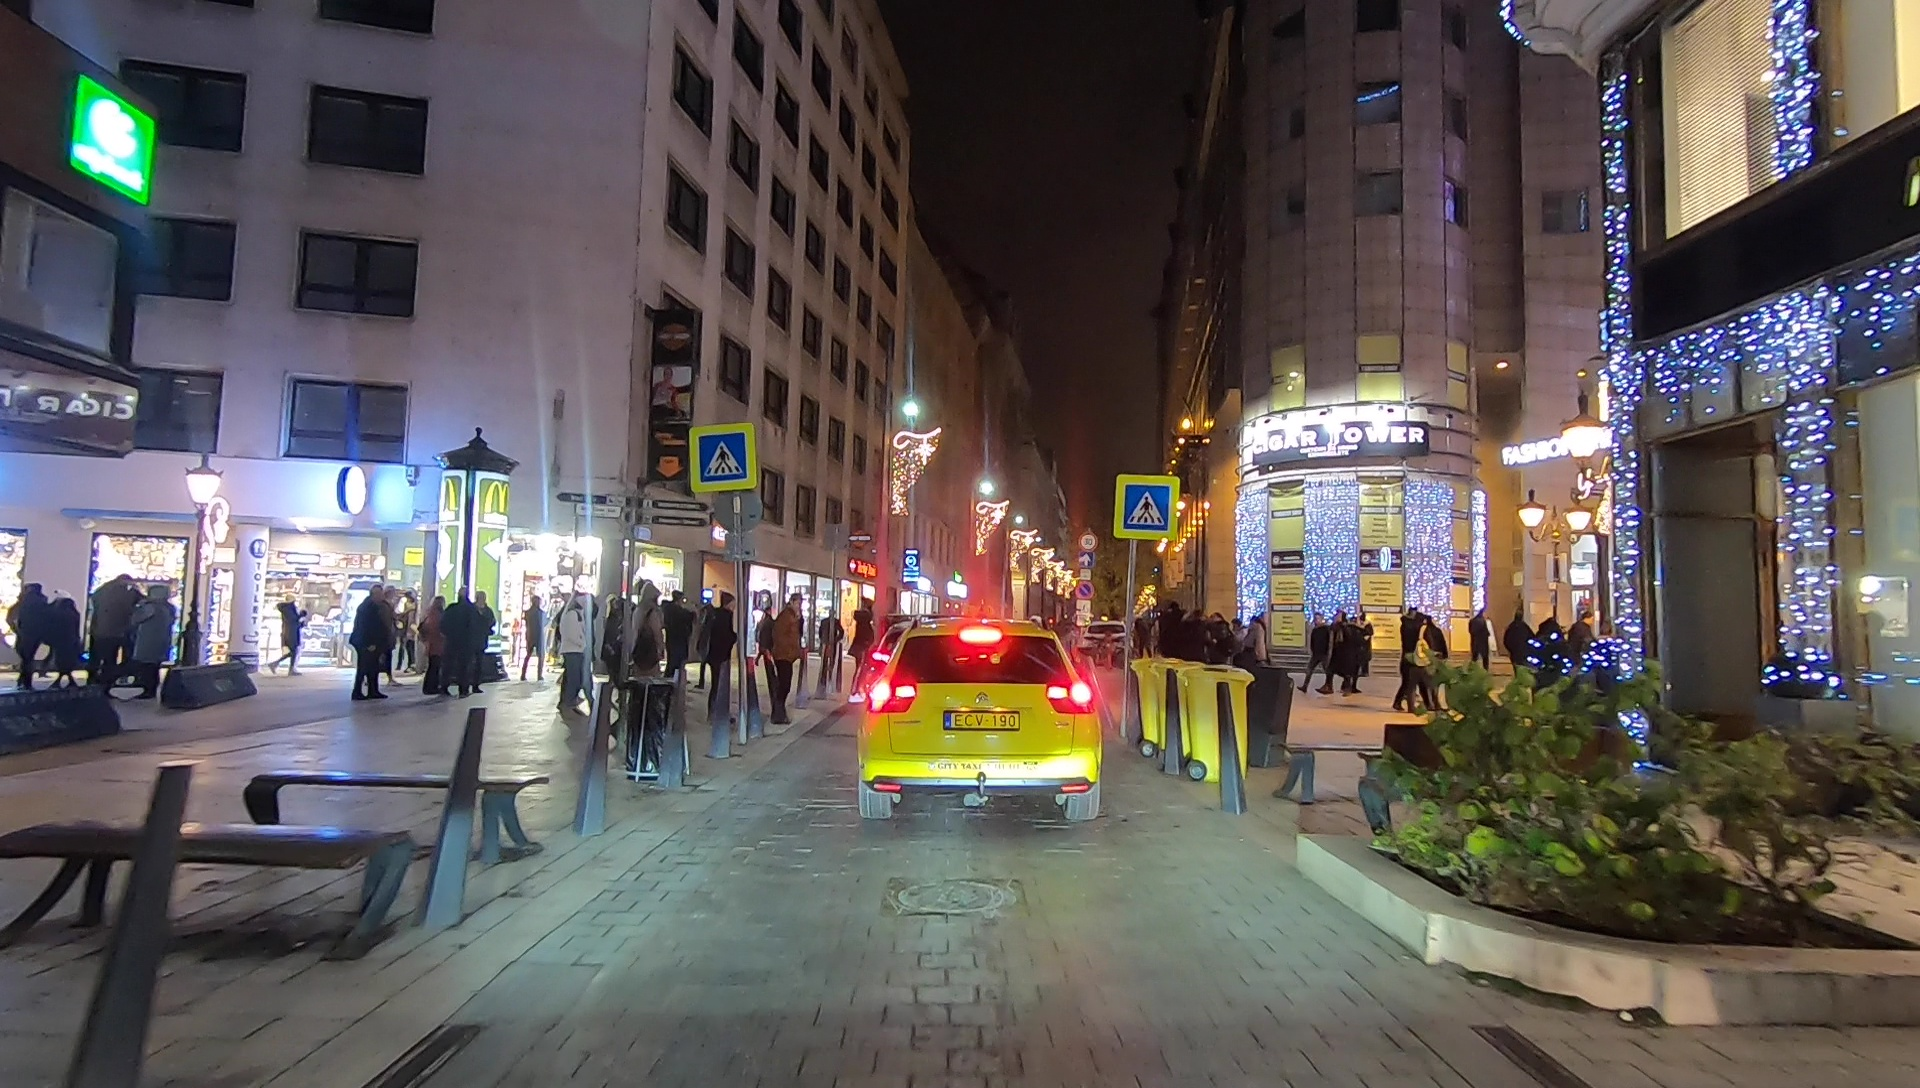person: (132, 582, 167, 700), (632, 582, 664, 706), (352, 586, 384, 706), (95, 571, 125, 687), (1395, 608, 1425, 717), (51, 589, 82, 695), (773, 593, 795, 728), (712, 595, 736, 717), (447, 578, 471, 697), (519, 589, 547, 691), (271, 591, 302, 682), (14, 580, 39, 689), (560, 586, 582, 710), (1301, 610, 1330, 700), (845, 597, 871, 687), (421, 593, 445, 691), (1465, 611, 1493, 691), (469, 589, 491, 693), (819, 608, 843, 691), (1341, 610, 1364, 697), (667, 591, 689, 682), (1569, 611, 1593, 684), (1156, 600, 1180, 674), (1326, 610, 1347, 695), (1245, 615, 1267, 687), (1204, 610, 1226, 682), (1506, 613, 1526, 686)
